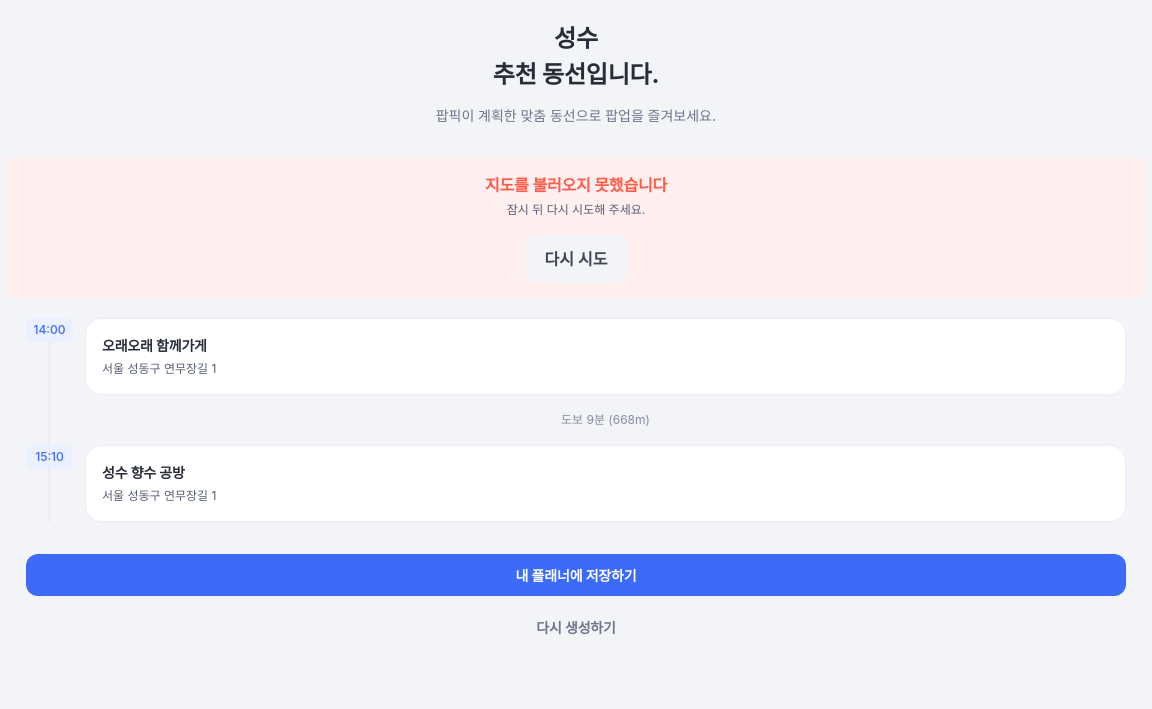
Test: 이미 저장된 코스를 저장하려다 E3005로 실패하면 상세를 다시 읽어 저장된 일정 화면으로 바뀐다
Click the button "내 플래너에 저장하기": [576, 575] box [26,554,1126,596]
(page scrolled)
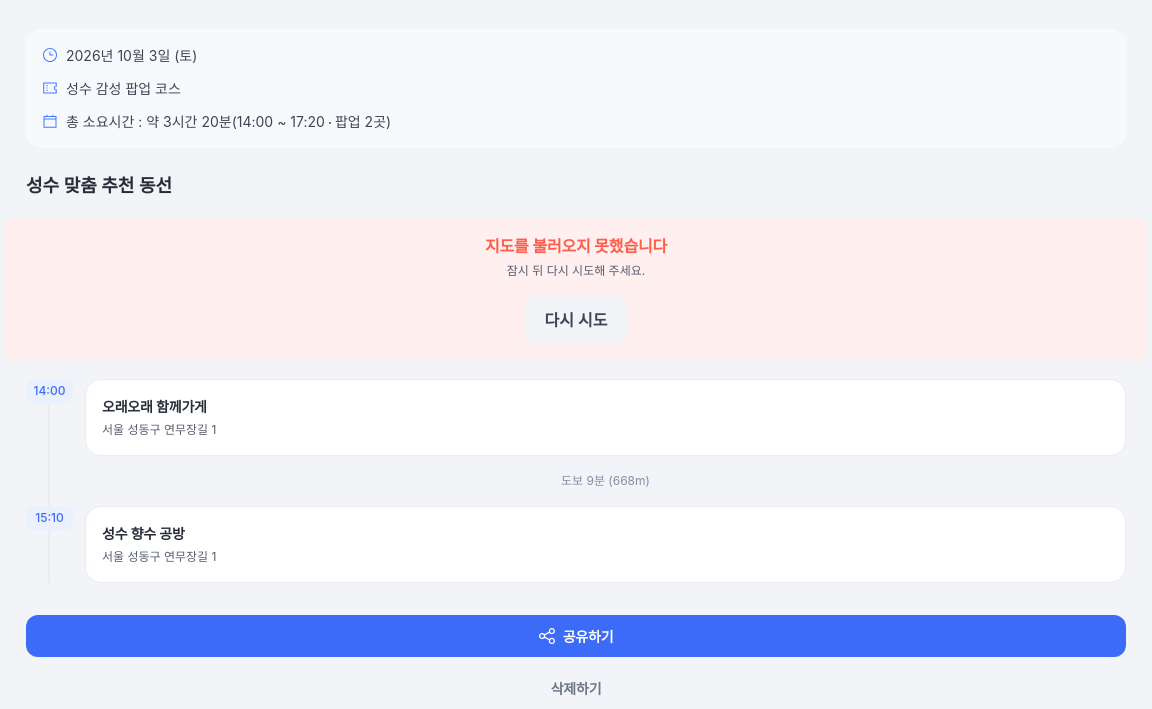
Now the button "삭제하기" is shown, box [26,667,1126,708]
Now the button "내 플래너에 저장하기" is gone
